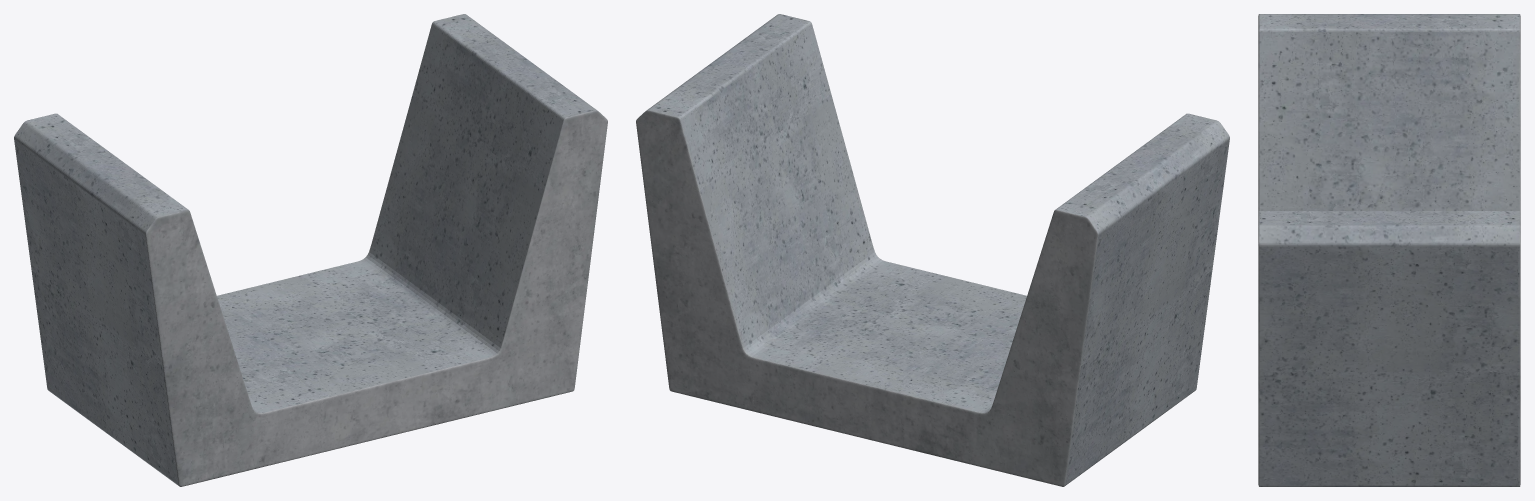
Rendered from Korytko Ciekowe.glb.
The picture shows the model from 3 angles, left to right: view 1: azimuth 30°, elevation 25°; view 2: azimuth 150°, elevation 25°; view 3: azimuth 270°, elevation 25°; orthographic projection.
Visible parts, largest first — view 1: Korytko Ciekowe; view 2: Korytko Ciekowe; view 3: Korytko Ciekowe.
Boxes of the visible parts, left/top/right/bottom form: Korytko Ciekowe: left=14, top=14, right=607, bottom=486; Korytko Ciekowe: left=636, top=14, right=1229, bottom=486; Korytko Ciekowe: left=1258, top=14, right=1520, bottom=486.
Size of the model in its own units: 1.13 by 0.6438 by 0.5609.
Materials: 1 (1 with a texture image).
